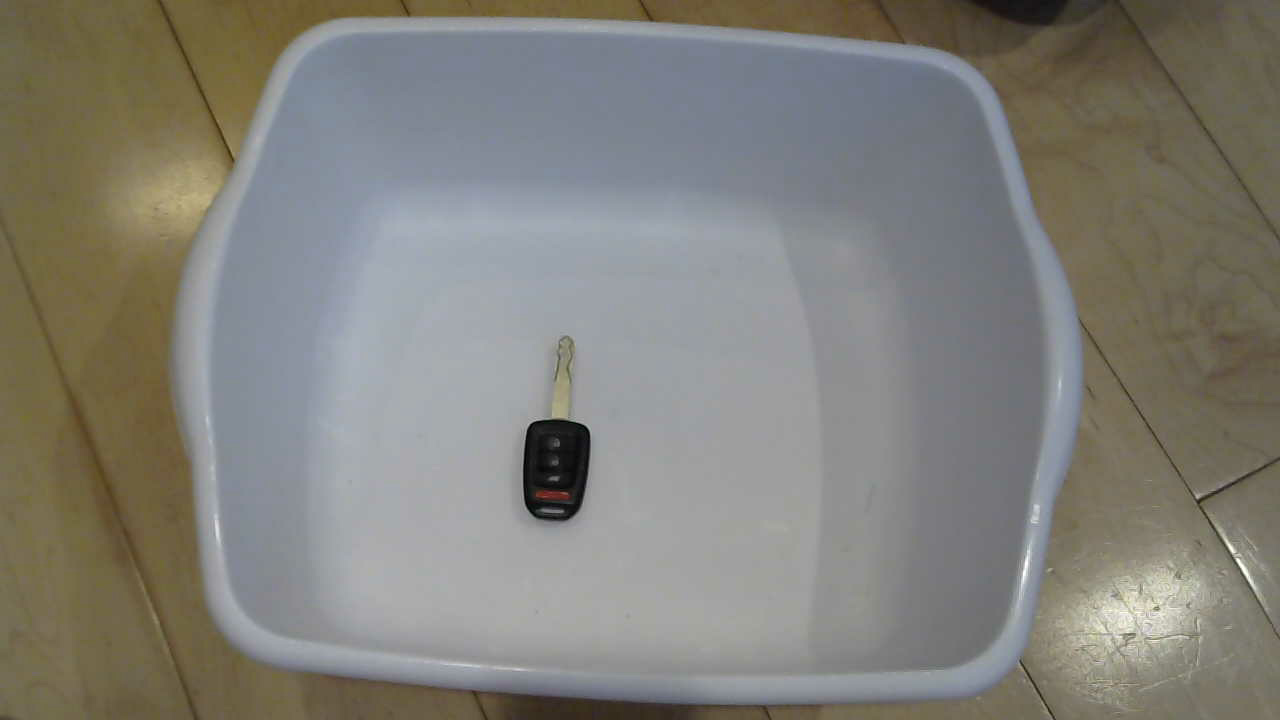key: (503, 331, 627, 536)
